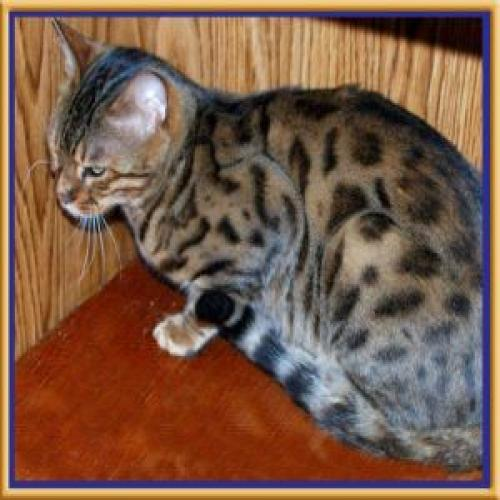cat-face: (29, 15, 186, 231)
